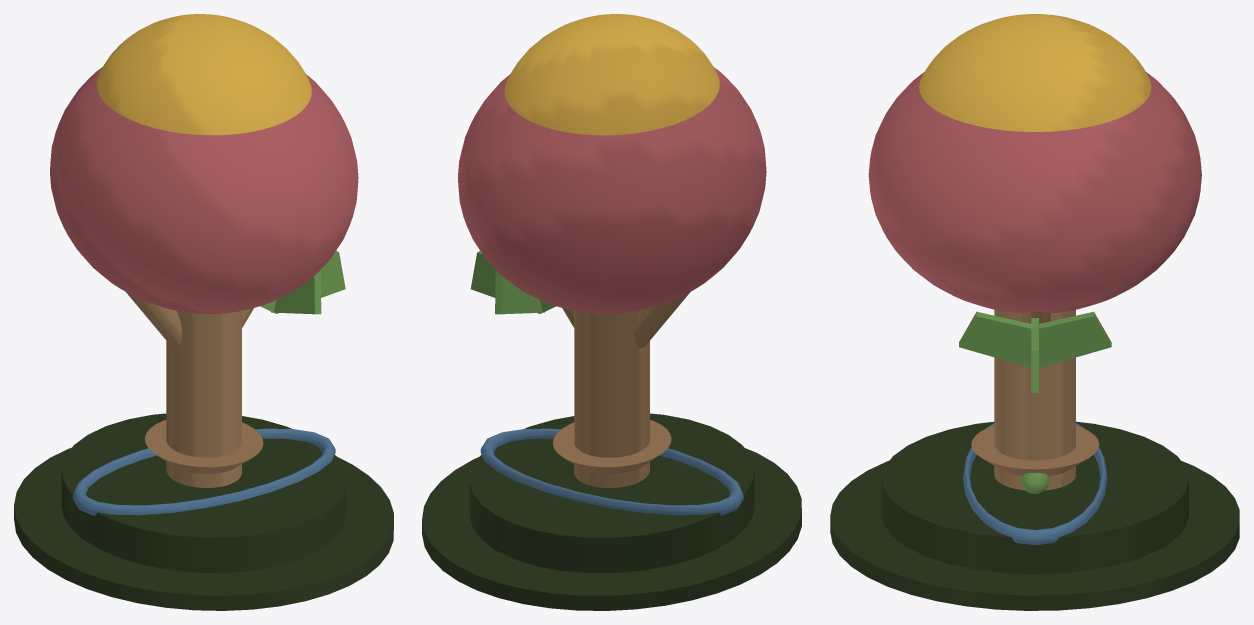
The model's file is 0107_植物图鉴_猴面包树.glb.
3 renders of one model, left to right at view 1: azimuth 30°, elevation 25°; view 2: azimuth 150°, elevation 25°; view 3: azimuth 270°, elevation 25°, orthographic.
Parts seen in each view (by area): view 1: card_0107; view 2: card_0107; view 3: card_0107.
Part boxes in pixels (x1,y1,x2,y2): card_0107: [14, 14, 393, 610]; card_0107: [422, 14, 801, 610]; card_0107: [830, 14, 1239, 610].
Size of the model in its own units: 0.6728 by 1 by 0.7337.
